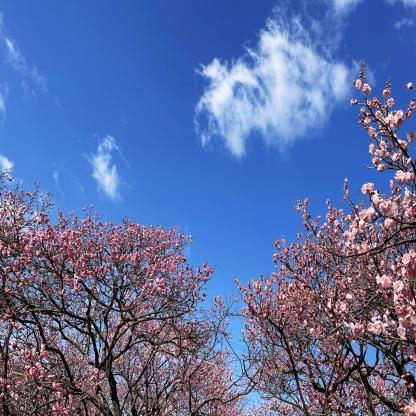Ume: (235, 59, 416, 416), (0, 164, 248, 416)
